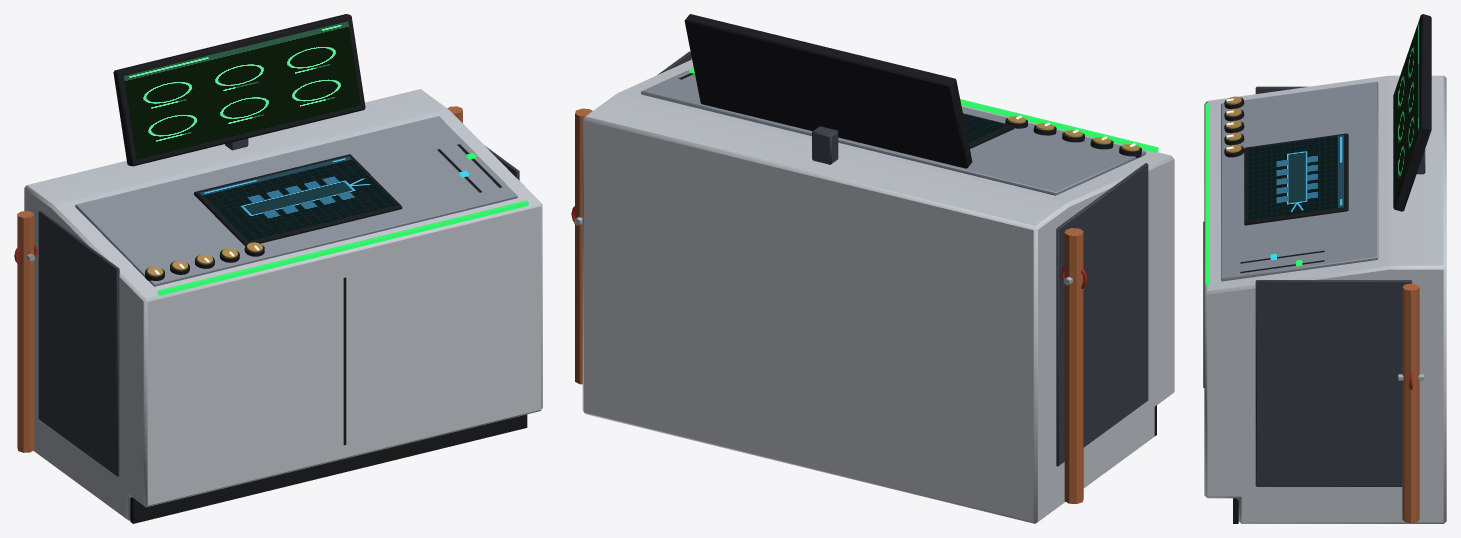
The model's file is console_environmental.glb.
The picture shows the model from 3 angles, left to right: view 1: azimuth 30°, elevation 25°; view 2: azimuth 150°, elevation 25°; view 3: azimuth 270°, elevation 25°; orthographic projection. The views are drawn at different scales.
Visible parts, largest first — view 1: console_environmental; view 2: console_environmental; view 3: console_environmental.
Boxes of the visible parts, x1,y1,x2,y2 form: console_environmental: (14,14,542,523); console_environmental: (571,14,1174,523); console_environmental: (1203,14,1446,523).
Size of the model in its own units: 1.81 by 1.39 by 0.854.
Materials: 13 (2 with a texture image).
